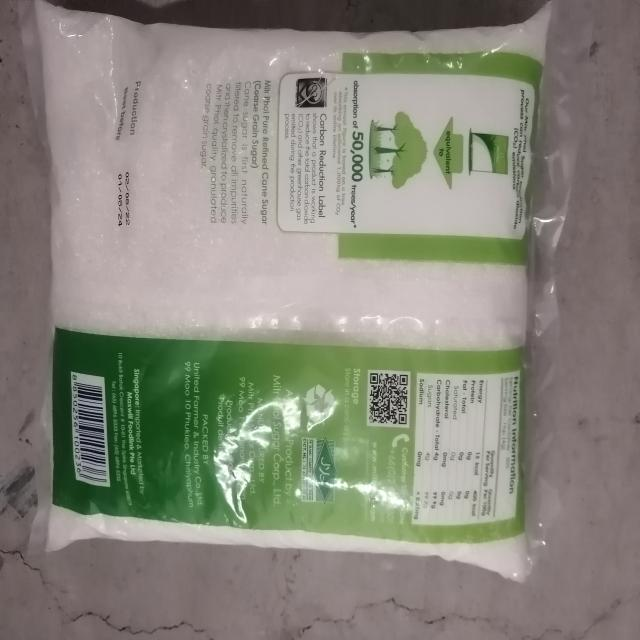object_name: (32, 12, 547, 572)
